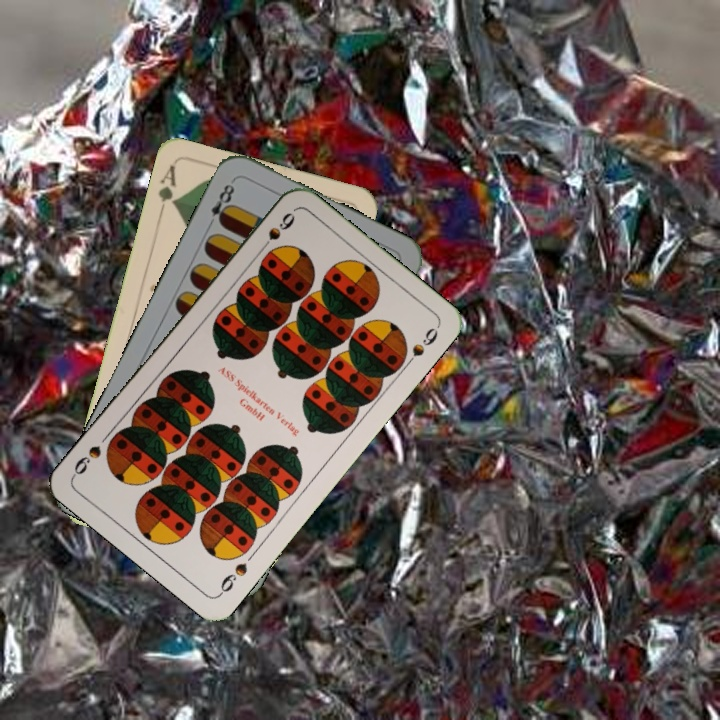E8: (203, 176, 237, 231)
GA: (154, 161, 180, 220)
S9: (254, 208, 298, 257), (215, 558, 250, 599)
